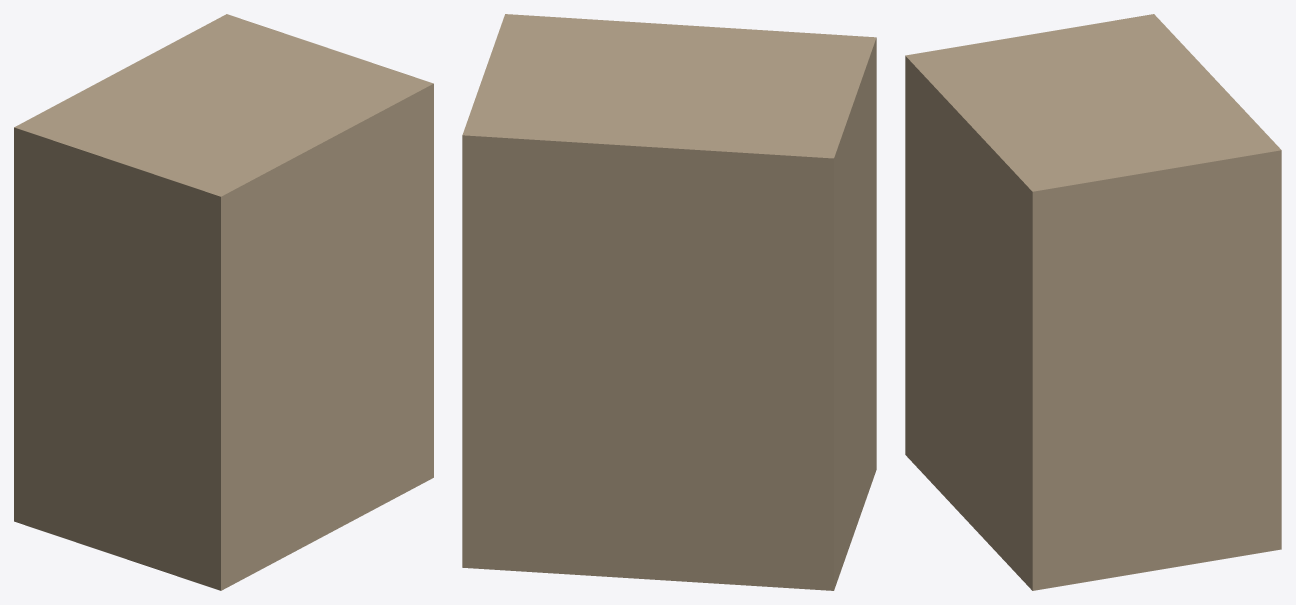
Rendered from bld_107642960.dae.
The picture shows the model from 3 angles, left to right: view 1: azimuth 30°, elevation 25°; view 2: azimuth 150°, elevation 25°; view 3: azimuth 270°, elevation 25°; orthographic projection. The views are drawn at different scales.
Parts seen in each view (by area): view 1: bld_107642960; view 2: bld_107642960; view 3: bld_107642960.
Part boxes in pixels (left/top/right/bottom): bld_107642960: left=14, top=14, right=433, bottom=590; bld_107642960: left=462, top=14, right=876, bottom=590; bld_107642960: left=905, top=14, right=1281, bottom=590.
Size of the model in its own units: 11.46 by 10.26 by 12.
